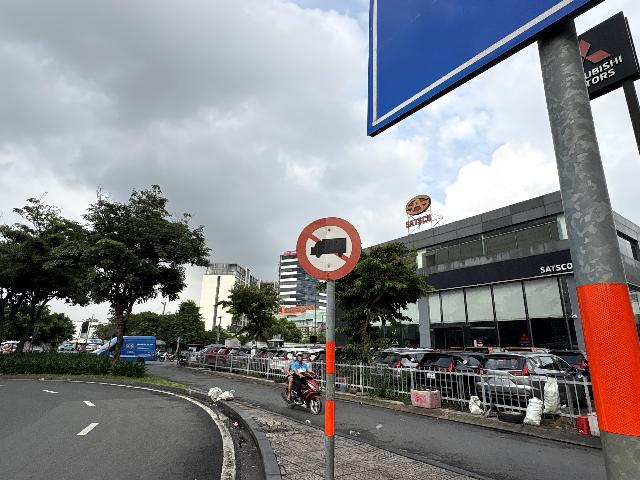cam-xe-tai: (296, 216, 361, 281)
